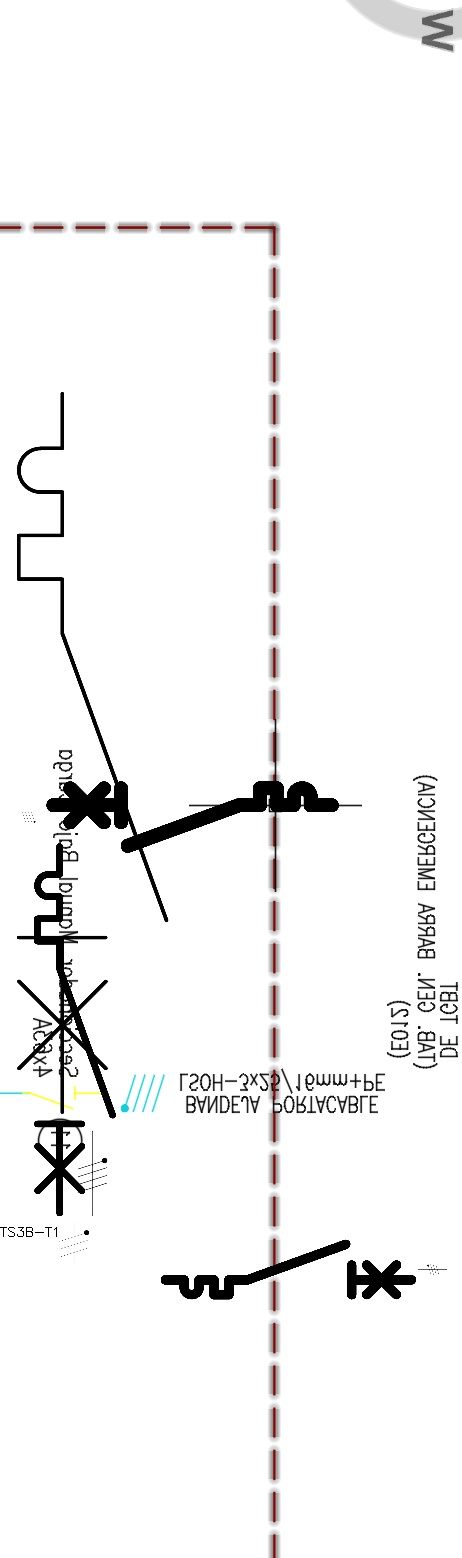interruptor_termomagnetico: (0, 375, 185, 1130), (28, 837, 122, 1222), (46, 781, 339, 852), (159, 1238, 418, 1301)
